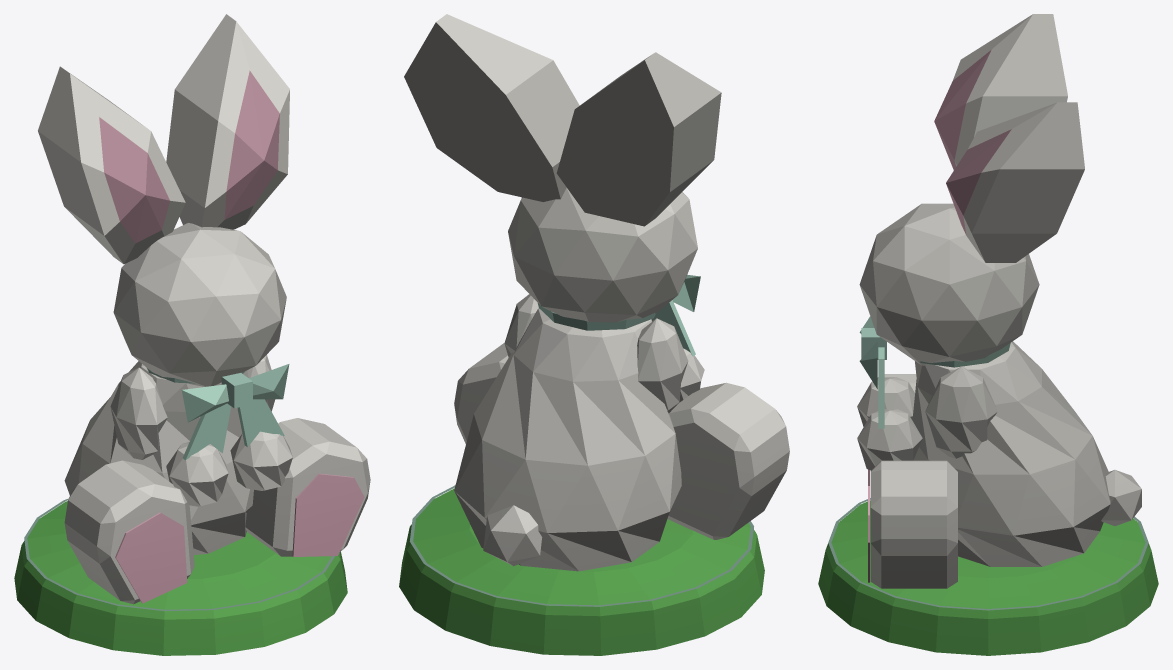
Rendered from bunny-statue.glb.
The picture shows the model from 3 angles, left to right: view 1: azimuth 30°, elevation 25°; view 2: azimuth 150°, elevation 25°; view 3: azimuth 270°, elevation 25°; orthographic projection. The views are drawn at different scales.
Visible parts, largest first — view 1: root_mesh, ears1_mesh, ears0_mesh; view 2: root_mesh, ears1_mesh, ears0_mesh; view 3: root_mesh, ears1_mesh, ears0_mesh.
Part boxes in pixels (<box>): root_mesh: <box>14,223,370,655</box>; ears1_mesh: <box>166,14,289,229</box>; ears0_mesh: <box>38,66,185,264</box>; root_mesh: <box>399,188,789,655</box>; ears1_mesh: <box>404,14,579,201</box>; ears0_mesh: <box>556,52,721,226</box>; root_mesh: <box>818,203,1158,655</box>; ears1_mesh: <box>946,102,1084,262</box>; ears0_mesh: <box>934,14,1067,170</box>.
Size of the model in its own units: 1.4 by 2.4 by 1.4.
